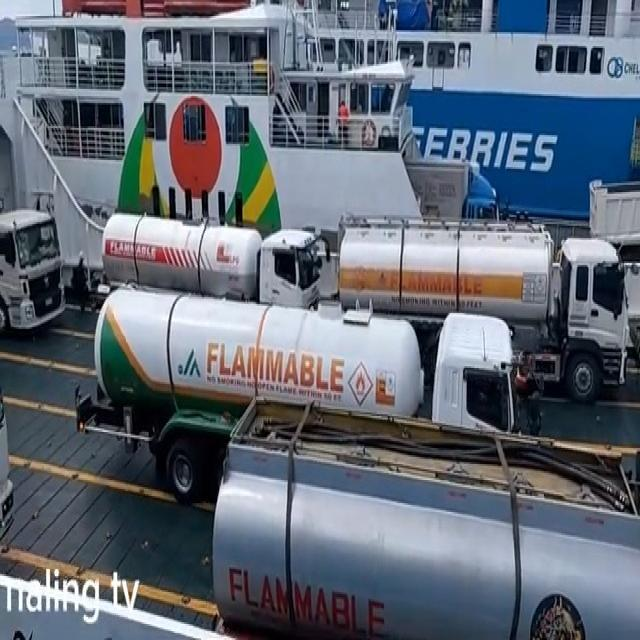truck: (76, 281, 520, 520), (213, 396, 640, 638), (340, 214, 630, 400), (101, 212, 322, 346), (0, 195, 66, 342)
